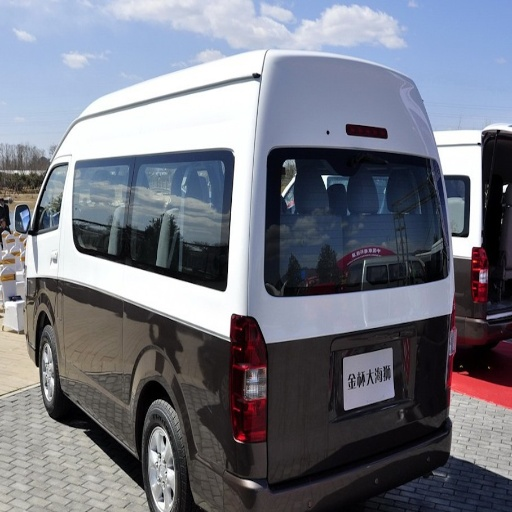back_bumper: (232, 462, 360, 509)
back_glass: (269, 156, 439, 292), (91, 159, 225, 273)
back_left_light: (228, 317, 265, 411)
trunk: (251, 286, 434, 463), (116, 303, 193, 414), (73, 259, 126, 335)
